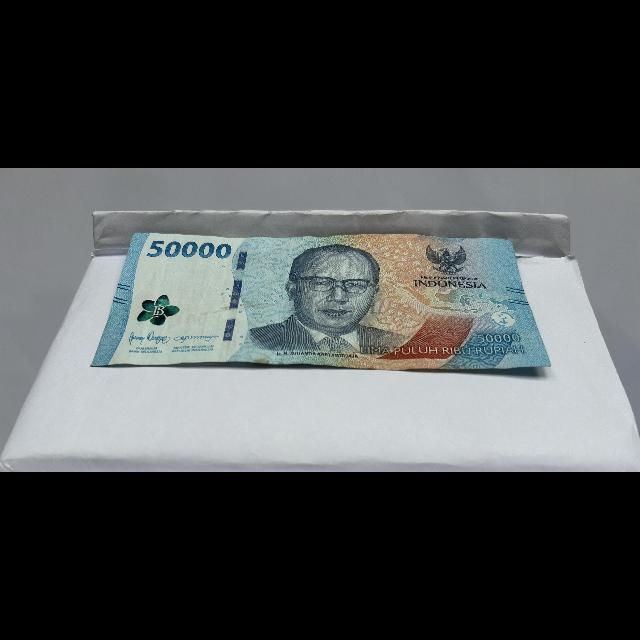Asli-50k: (87, 229, 556, 372)
Tinta-Asli-50k: (134, 293, 183, 328)
